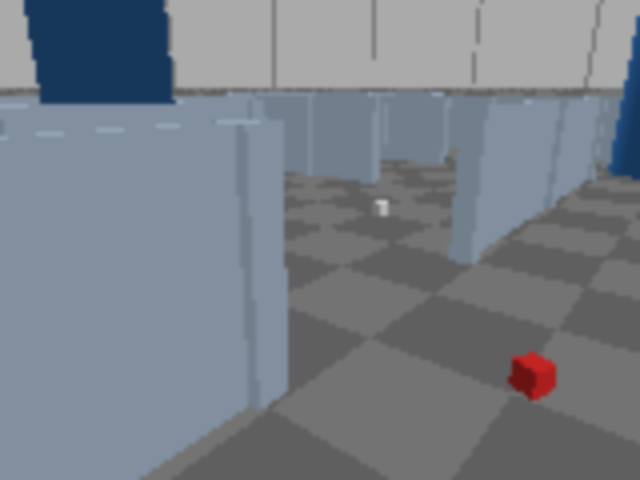person: (609, 0, 638, 180)
puck: (509, 352, 558, 400), (372, 200, 389, 216)
